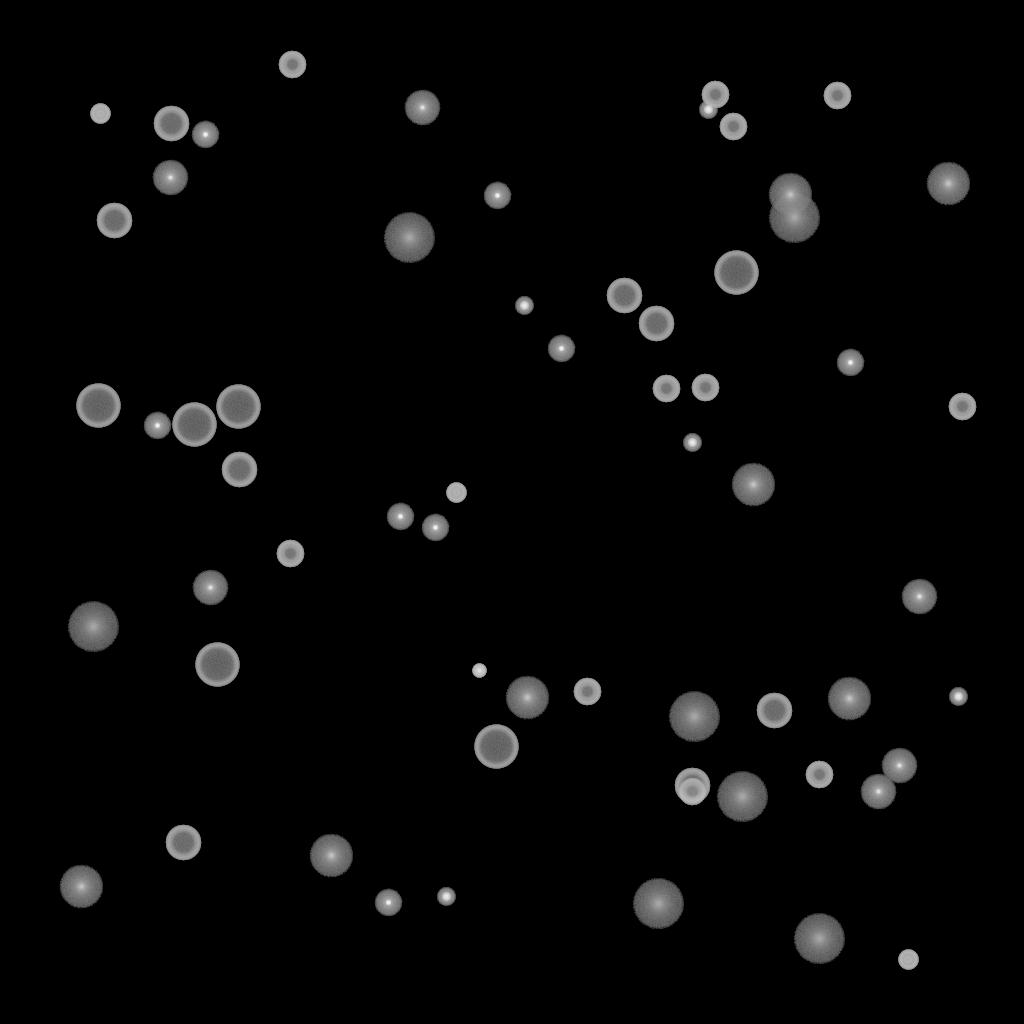depth:-10: (421, 514, 449, 542), (836, 349, 864, 377), (547, 335, 575, 363), (143, 412, 171, 440), (191, 121, 219, 149), (483, 182, 511, 210), (386, 503, 414, 531), (374, 889, 402, 917)
depth:-20: (683, 434, 701, 452), (949, 688, 967, 706), (699, 101, 717, 119), (437, 888, 455, 906), (515, 297, 533, 315)
depth:-30: (472, 664, 486, 678)
depth:-40: (898, 950, 918, 970), (90, 104, 110, 124), (446, 483, 466, 503)
depth:-50: (719, 113, 747, 141), (691, 374, 719, 402), (701, 81, 729, 109), (823, 82, 851, 110), (678, 778, 706, 806), (805, 761, 833, 789), (948, 393, 976, 421), (276, 540, 304, 568), (573, 678, 601, 706), (652, 375, 680, 403), (278, 51, 306, 79)
depth:-60: (221, 452, 257, 488), (638, 306, 674, 342), (96, 203, 132, 239), (674, 768, 710, 804), (153, 106, 189, 142), (756, 693, 792, 729), (165, 825, 201, 861), (606, 278, 642, 314)
depth:-70: (216, 385, 260, 429), (474, 725, 518, 769), (195, 643, 239, 687), (76, 384, 120, 428), (172, 403, 216, 447), (714, 251, 758, 295)
depth:0: (192, 570, 228, 606), (901, 579, 937, 615), (881, 748, 917, 784), (152, 160, 188, 196), (860, 774, 896, 810), (404, 90, 440, 126)
depth:10: (926, 162, 970, 206), (309, 834, 353, 878), (768, 173, 812, 217), (827, 677, 871, 721), (505, 676, 549, 720), (731, 463, 775, 507), (59, 865, 103, 909)
depth:20: (716, 772, 768, 822), (67, 602, 119, 652), (793, 914, 845, 964), (768, 193, 820, 243), (632, 879, 684, 929), (383, 213, 435, 263), (668, 692, 720, 742)
